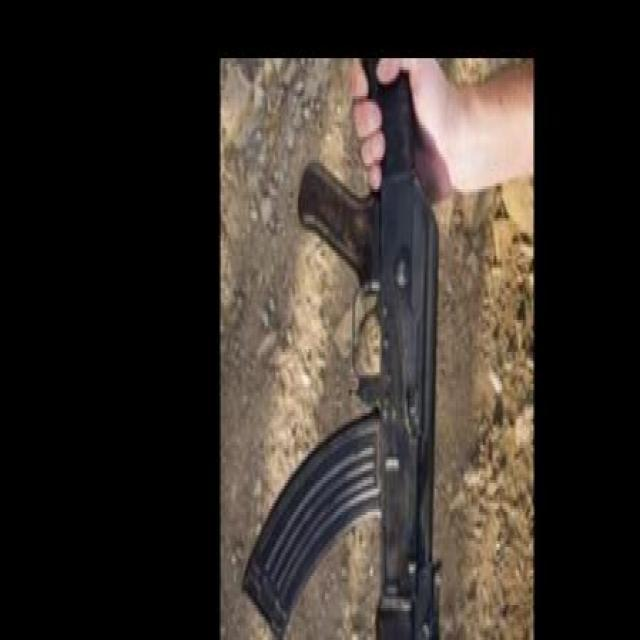weapon: (242, 55, 444, 640)
